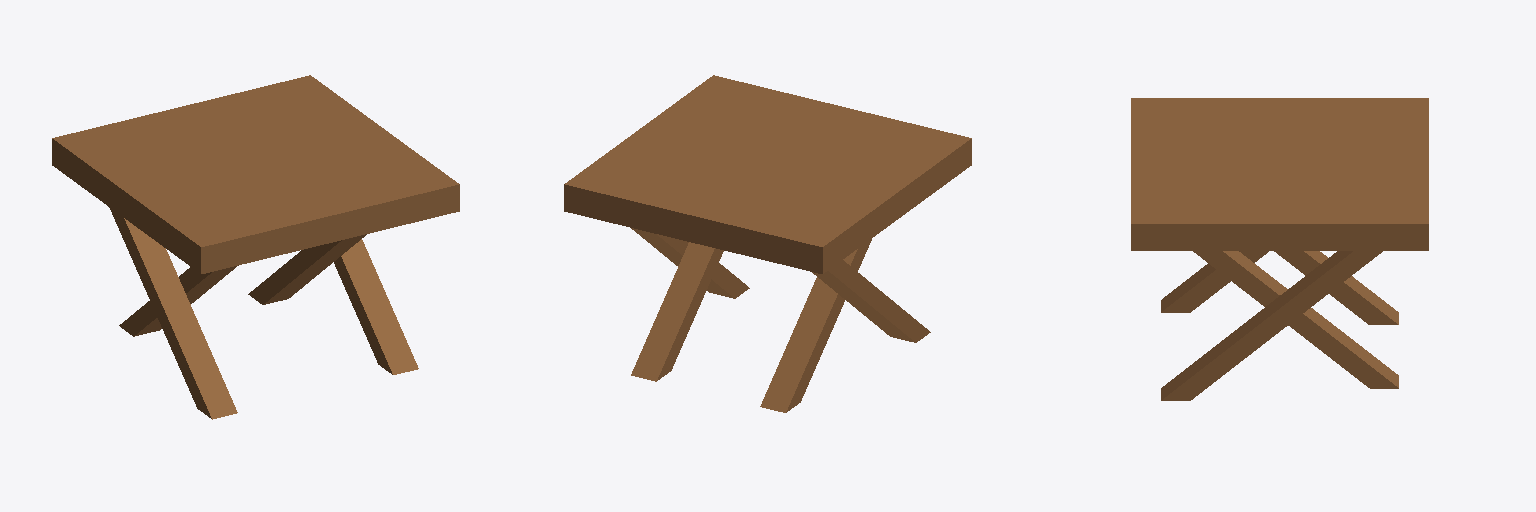
The model's file is table_fold.obj.
3 views of the same model, side by side, from view 1: azimuth 30°, elevation 25°; view 2: azimuth 150°, elevation 25°; view 3: azimuth 270°, elevation 25° (orthographic).
Visible parts, largest first — view 1: table_mesh_Cube; view 2: table_mesh_Cube; view 3: table_mesh_Cube.
Part boxes in pixels (left/top/right/bottom): table_mesh_Cube: left=52, top=75, right=459, bottom=419; table_mesh_Cube: left=564, top=75, right=971, bottom=412; table_mesh_Cube: left=1131, top=98, right=1428, bottom=400.
Bounding box in the file's own units: 1 × 0.7 × 1.